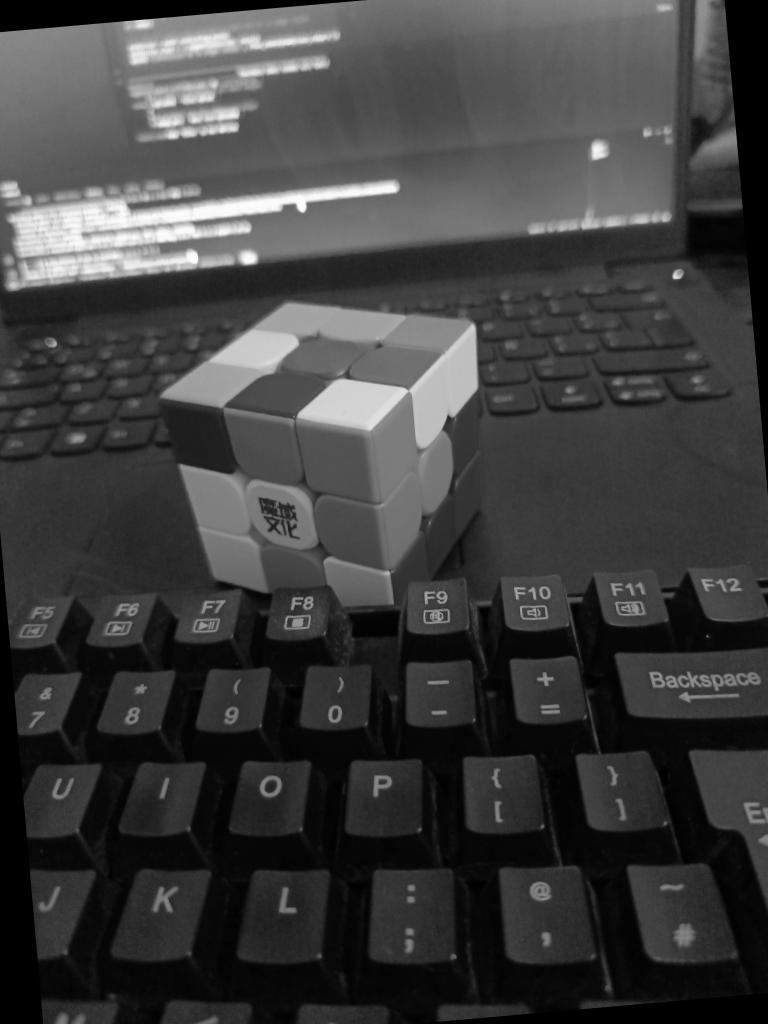rubik: (149, 282, 500, 622)
